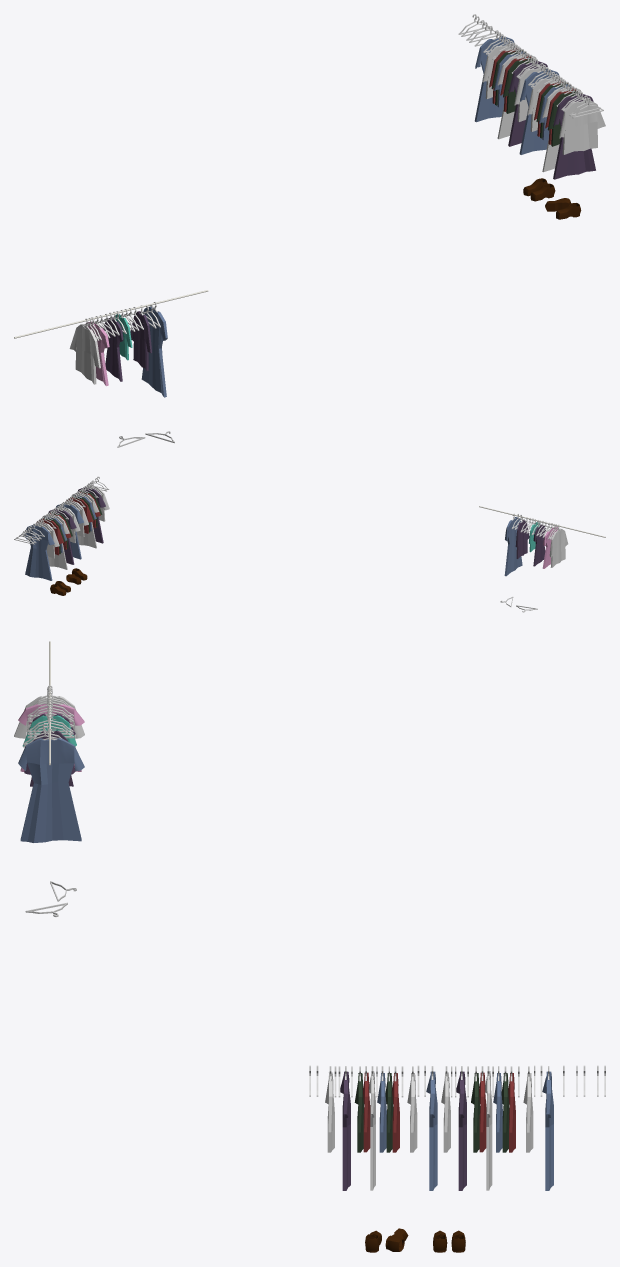
The model's file is closet_stuff.fbx.
3 renders of one model, top to bottom at view 1: azimuth 30°, elevation 25°; view 2: azimuth 150°, elevation 25°; view 3: azimuth 270°, elevation 25°, orthographic. The views are drawn at different scales.
Visible parts, largest first — view 1: shirt10 (×2), shirt16 (×2), shirt8, shirt26, shirt14, shirt15, shirt18; view 2: shirt26, shirt16 (×2), shirt15 (×2), shirt14 (×2), shirt8 (×2), shirt10, shirt25, shirt18, shirt24, shirt23, shirt13, closet_rod; view 3: shirt16 (×2), shirt18, shirt8, shirt26.
Boxes of the visible parts, x1,y1,x2,y2 form: shirt10 (×2): [69, 99, 605, 384]; shirt16 (×2): [141, 69, 558, 397]; shirt8: [553, 94, 595, 179]; shirt26: [474, 36, 514, 122]; shirt14: [130, 311, 151, 370]; shirt15: [103, 317, 123, 381]; shirt18: [508, 60, 547, 146]; shirt26: [24, 524, 54, 580]; shirt16 (×2): [56, 503, 522, 576]; shirt15 (×2): [71, 492, 545, 566]; shirt14 (×2): [65, 500, 529, 558]; shirt8 (×2): [78, 487, 557, 568]; shirt10: [549, 528, 568, 567]; shirt25: [42, 514, 69, 569]; shirt18: [48, 508, 76, 564]; shirt24: [27, 522, 59, 558]; shirt23: [36, 518, 63, 555]; shirt13: [65, 497, 93, 533]; closet_rod: [479, 506, 605, 537]; shirt16 (×2): [18, 738, 437, 1190]; shirt18: [456, 1071, 466, 1190]; shirt8: [340, 1071, 350, 1190]; shirt26: [542, 1071, 553, 1190].
Size of the model in its own units: 10.18 by 1.92 by 5.77.
